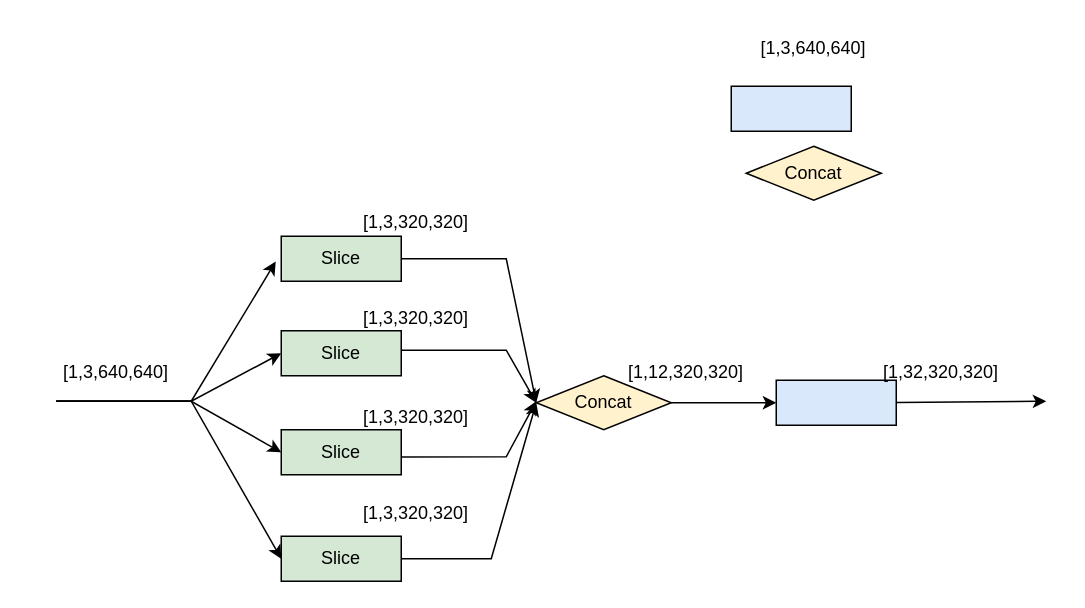
Image size: 1085x608. Some labels were removed from this diagram. The shapes that lost their labels are listed below. From the top down, each one's centre as x and y in pixels, then its label:
At (x=790, y=108): "Conv k=6 s=2".
At (x=835, y=402): "Conv k=3 s=1".
